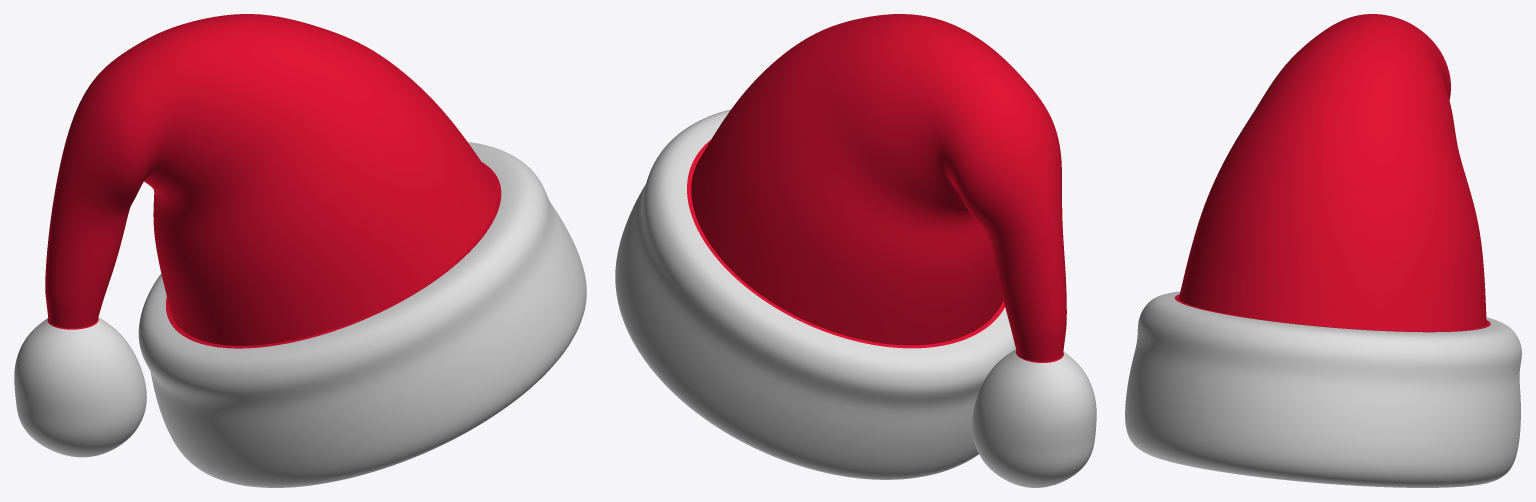
File: noel-hat.glb
3 renders of one model, left to right at view 1: azimuth 30°, elevation 25°; view 2: azimuth 150°, elevation 25°; view 3: azimuth 270°, elevation 25°, orthographic.
Visible parts, largest first — view 1: Santa_hat; view 2: Santa_hat; view 3: Santa_hat.
Boxes of the visible parts, left/top/right/bottom form: Santa_hat: left=14, top=14, right=586, bottom=487; Santa_hat: left=615, top=14, right=1096, bottom=487; Santa_hat: left=1125, top=14, right=1521, bottom=487.
Size of the model in its own units: 1.74 by 1.45 by 1.22.
